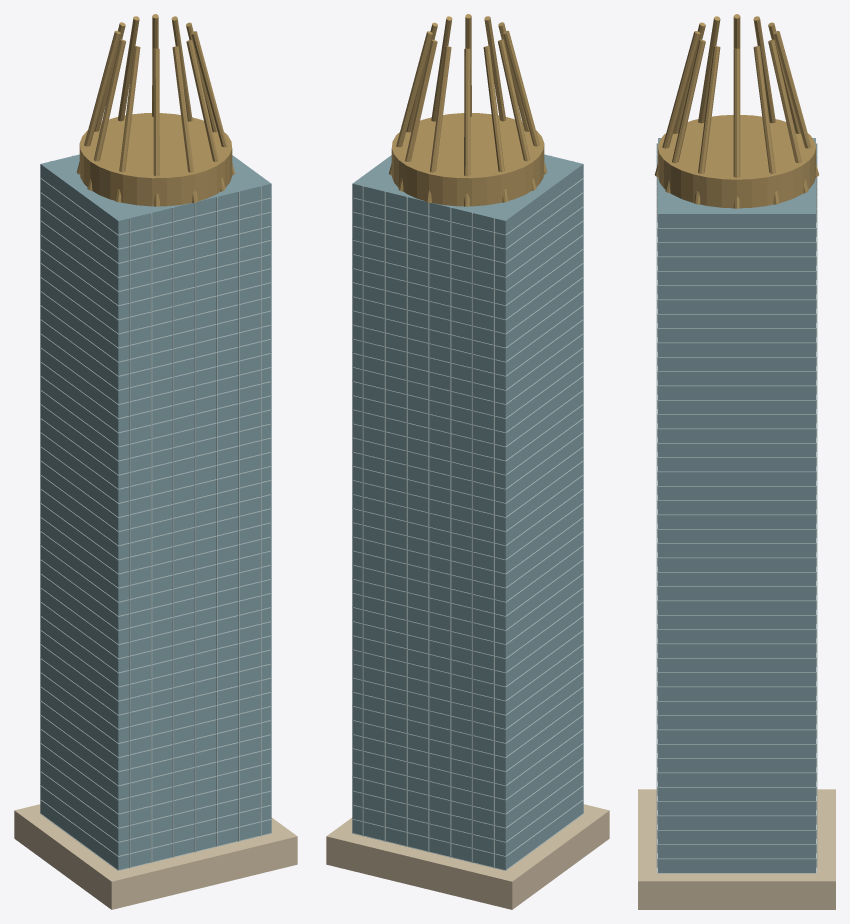
The model's file is bund-center.glb.
3 views of the same model, side by side, from view 1: azimuth 30°, elevation 25°; view 2: azimuth 150°, elevation 25°; view 3: azimuth 270°, elevation 25° (orthographic).
Visible parts, largest first — view 1: bund-center; view 2: bund-center; view 3: bund-center.
Part boxes in pixels (x1,y1,x2,y2): bund-center: [14, 14, 297, 909]; bund-center: [326, 14, 609, 909]; bund-center: [638, 14, 835, 909].
Bounding box in the file's own units: 47.19 × 199 × 42.84.
